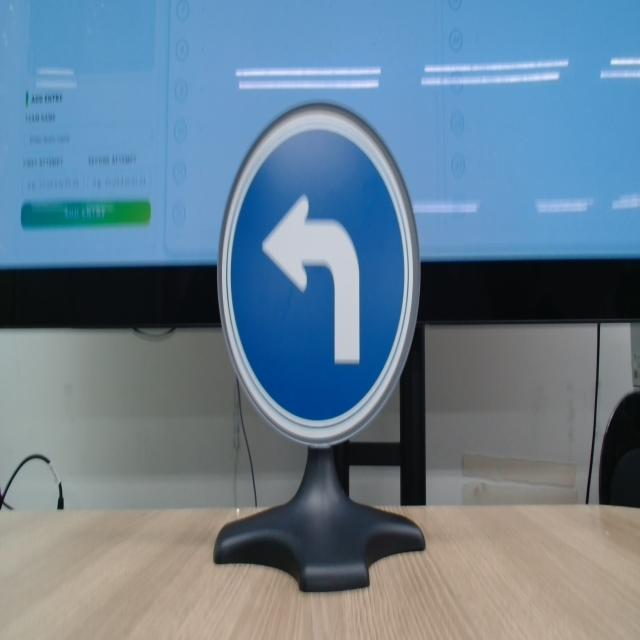left_direction: (215, 86, 462, 471)
